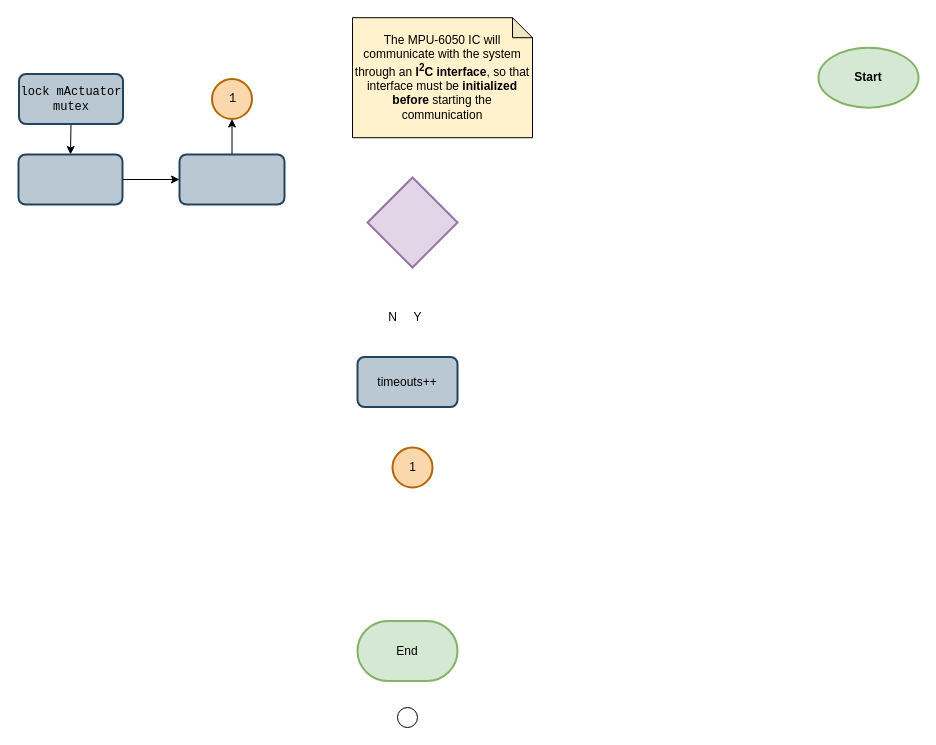
The diagram is 936 pixels wide and 745 high, and some of its shapes have lost their labels. Here are the shapes that lost their labels. From the top down, the box of each, then its label:
(17, 153, 123, 205): store output from NN
(178, 153, 285, 205): unlock mActuator mutex
(366, 176, 458, 268): Timed Out?
